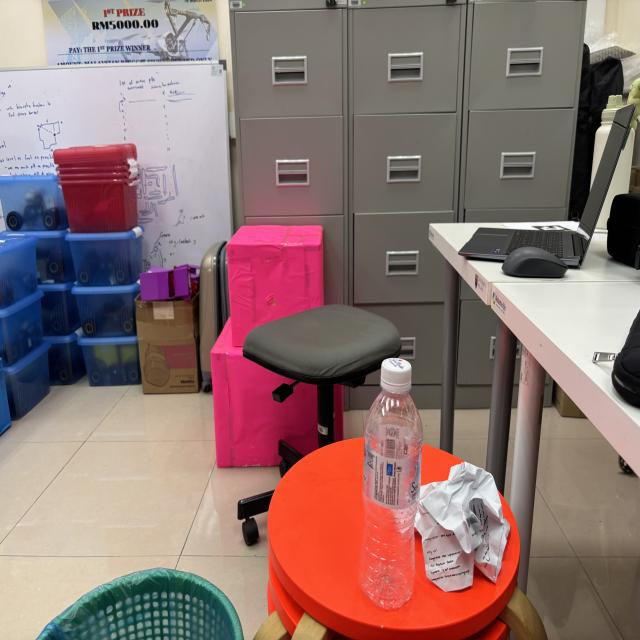crumpled_paper: (416, 449, 522, 604)
plastic_bottle: (357, 351, 427, 617)
